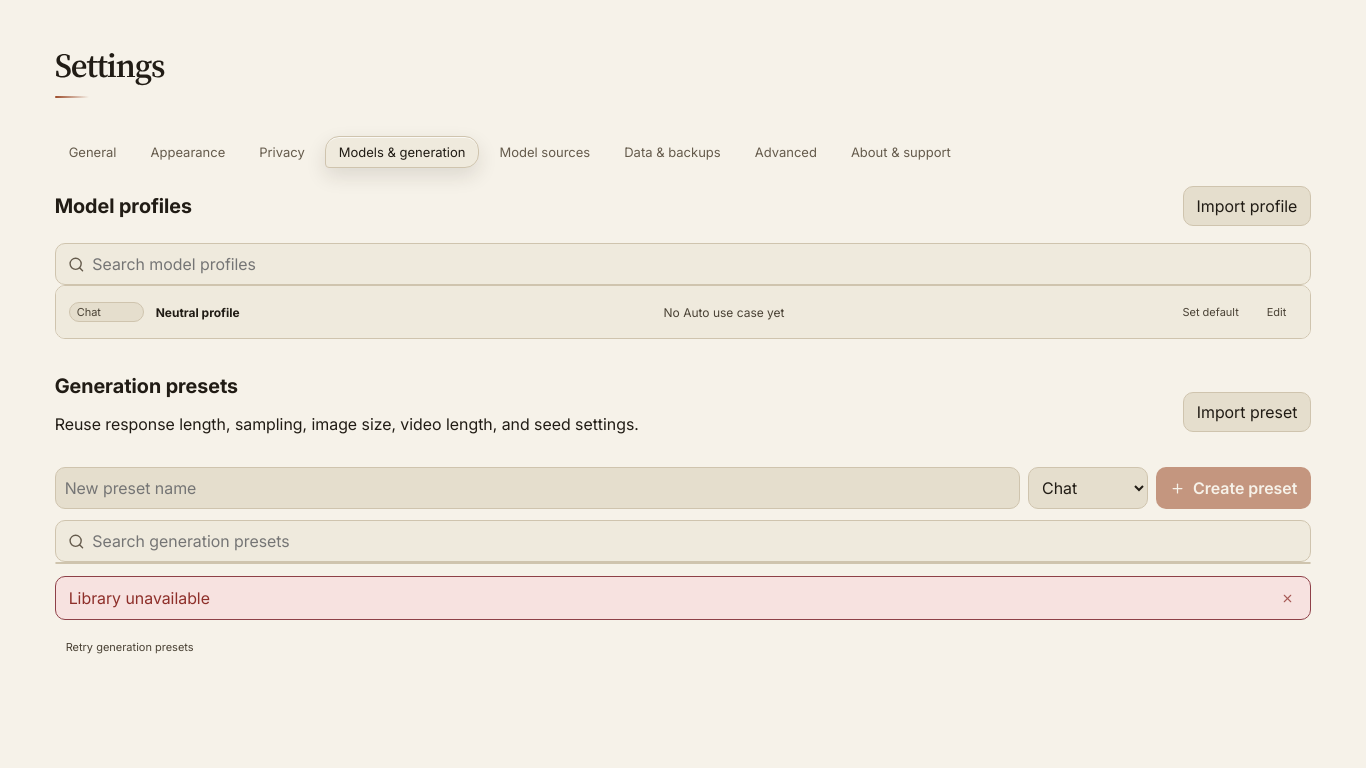
Test: retries an initial preset failure without showing an empty result
Expected: the text "Library unavailable" is shown, [69,588,210,608]
Click the button "Retry generation presets".
click(130, 647)  # box [55,632,205,662]
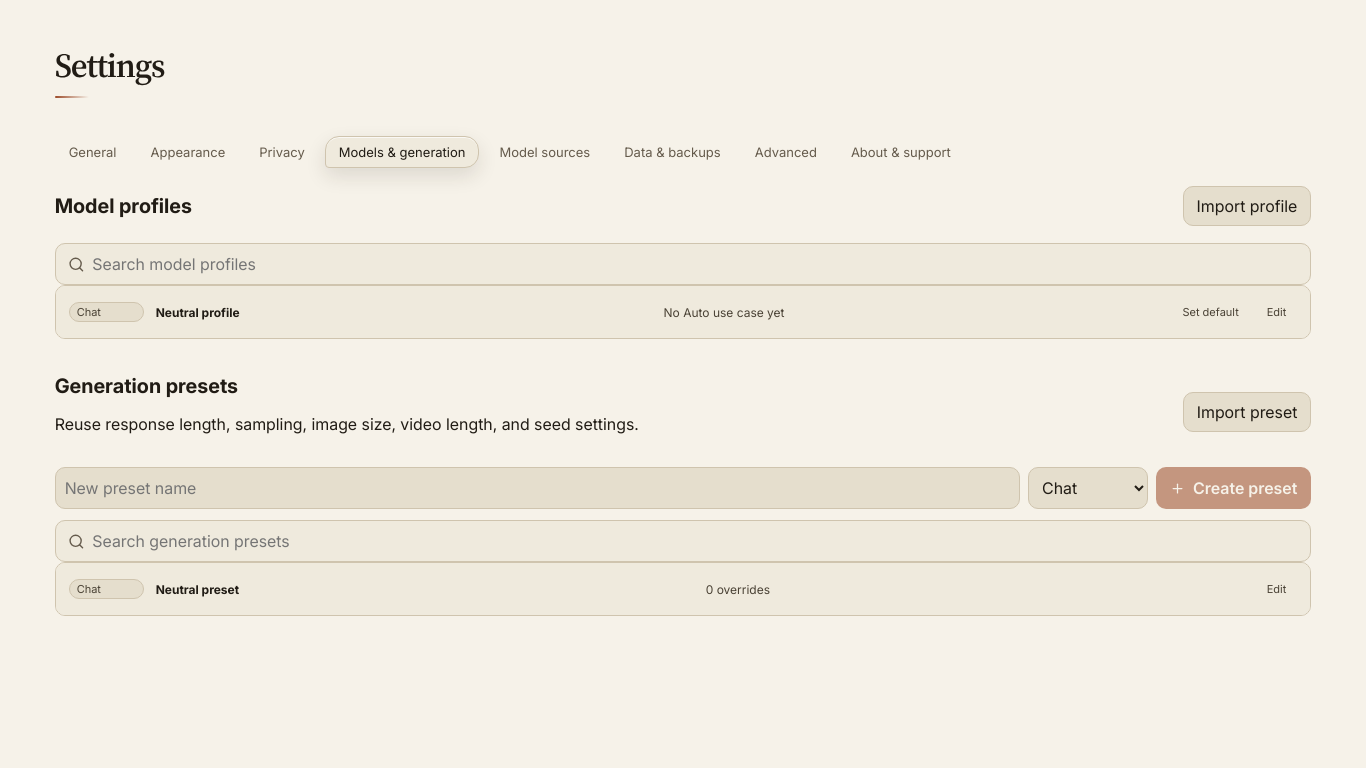
Now the button with aria-label "Edit preset: Neutral preset" is shown, box [1256,574,1297,604]
